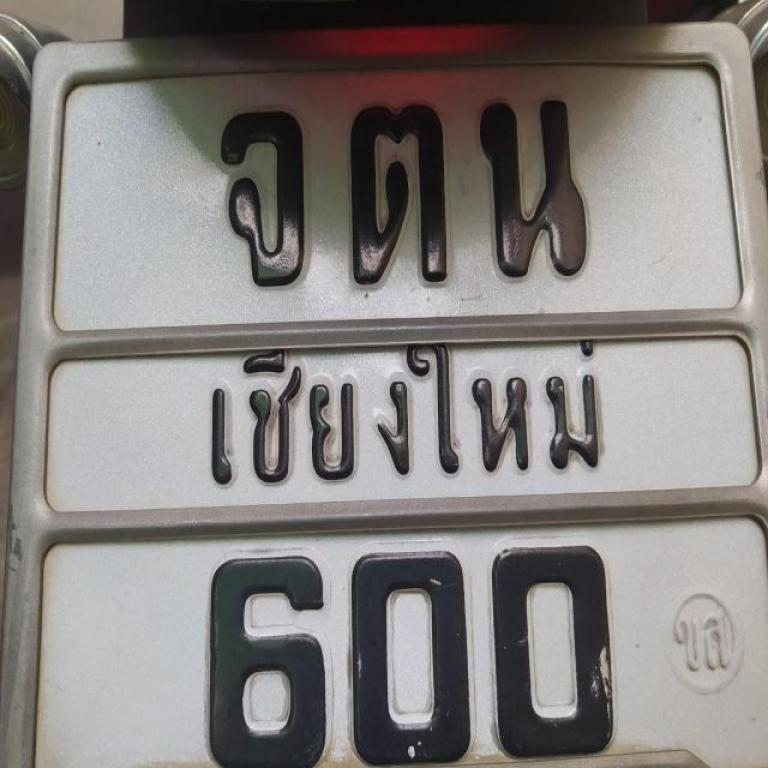license plate: (23, 36, 768, 768)
